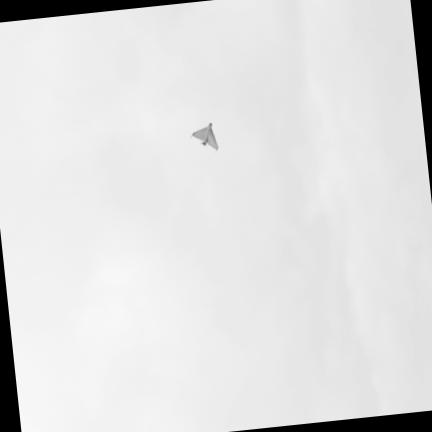Shahed: (192, 123, 218, 149)
